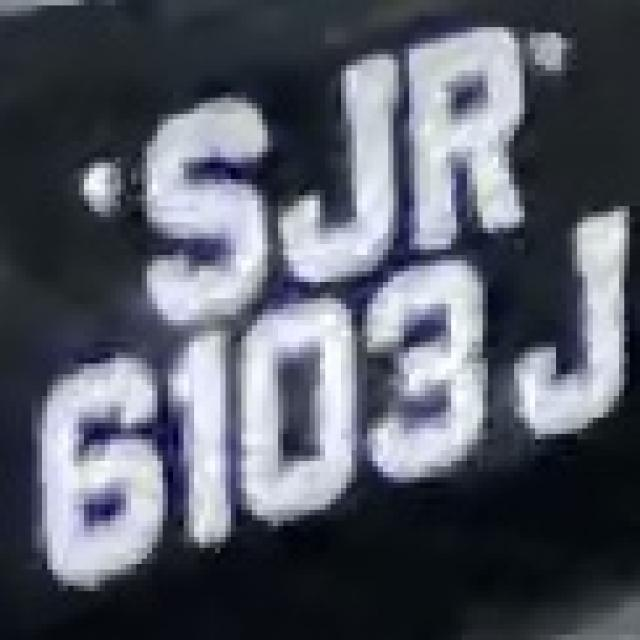0: (236, 298, 378, 526)
1: (163, 320, 236, 564)
3: (352, 271, 514, 494)
6: (31, 353, 168, 591)
J: (267, 44, 404, 272), (509, 212, 629, 450)
R: (388, 27, 535, 250)
S: (120, 98, 272, 336)
